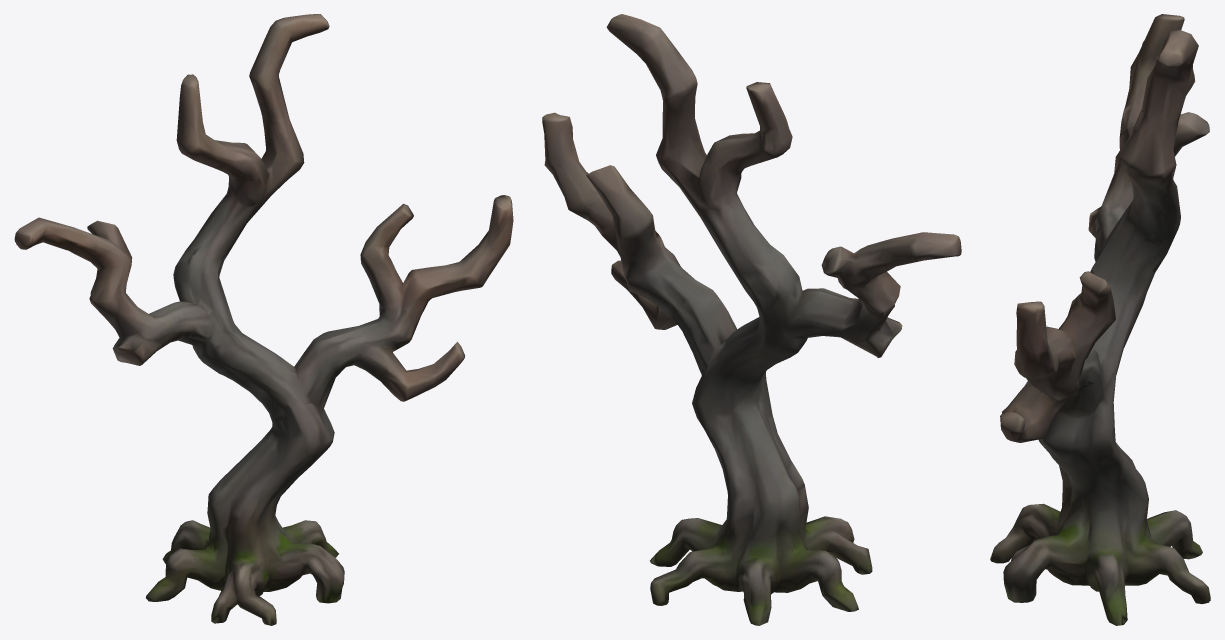
The model's file is gy_sapling-D_sSEuFy.glb.
3 views of the same model, side by side, from view 1: azimuth 30°, elevation 25°; view 2: azimuth 150°, elevation 25°; view 3: azimuth 270°, elevation 25° (orthographic). The views are drawn at different scales.
Parts seen in each view (by area): view 1: tripo_node_cc9fbb28-b47c-47ab-b657-149d2fef8515; view 2: tripo_node_cc9fbb28-b47c-47ab-b657-149d2fef8515; view 3: tripo_node_cc9fbb28-b47c-47ab-b657-149d2fef8515.
Boxes of the visible parts, box(x1,y1,x2,y2) form: tripo_node_cc9fbb28-b47c-47ab-b657-149d2fef8515: box(14, 14, 513, 625); tripo_node_cc9fbb28-b47c-47ab-b657-149d2fef8515: box(542, 14, 961, 625); tripo_node_cc9fbb28-b47c-47ab-b657-149d2fef8515: box(990, 14, 1210, 625).
Size of the model in its own units: 0.8819 by 1 by 0.3439.
1 material, 1 textured.
